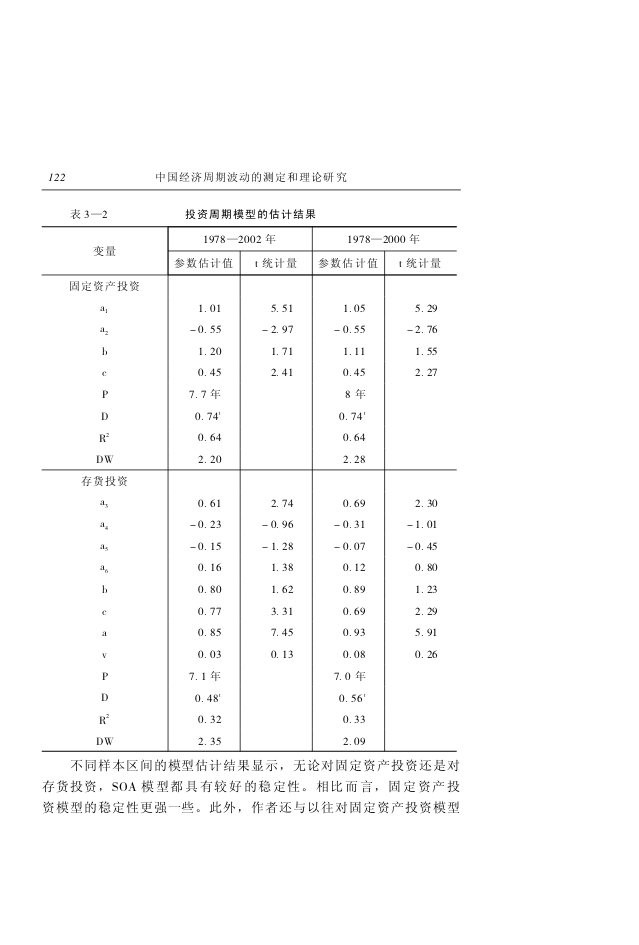table: (41, 226, 456, 752)
